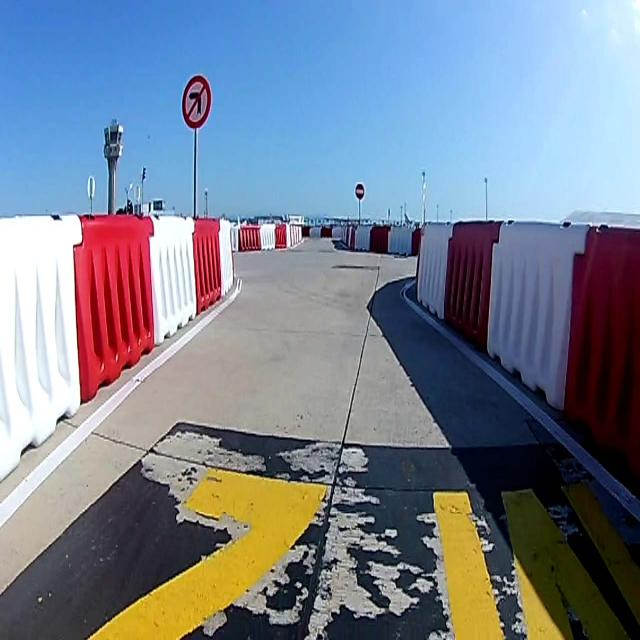girisyok: (355, 182, 365, 198)
soladonulmez: (181, 74, 212, 126)
